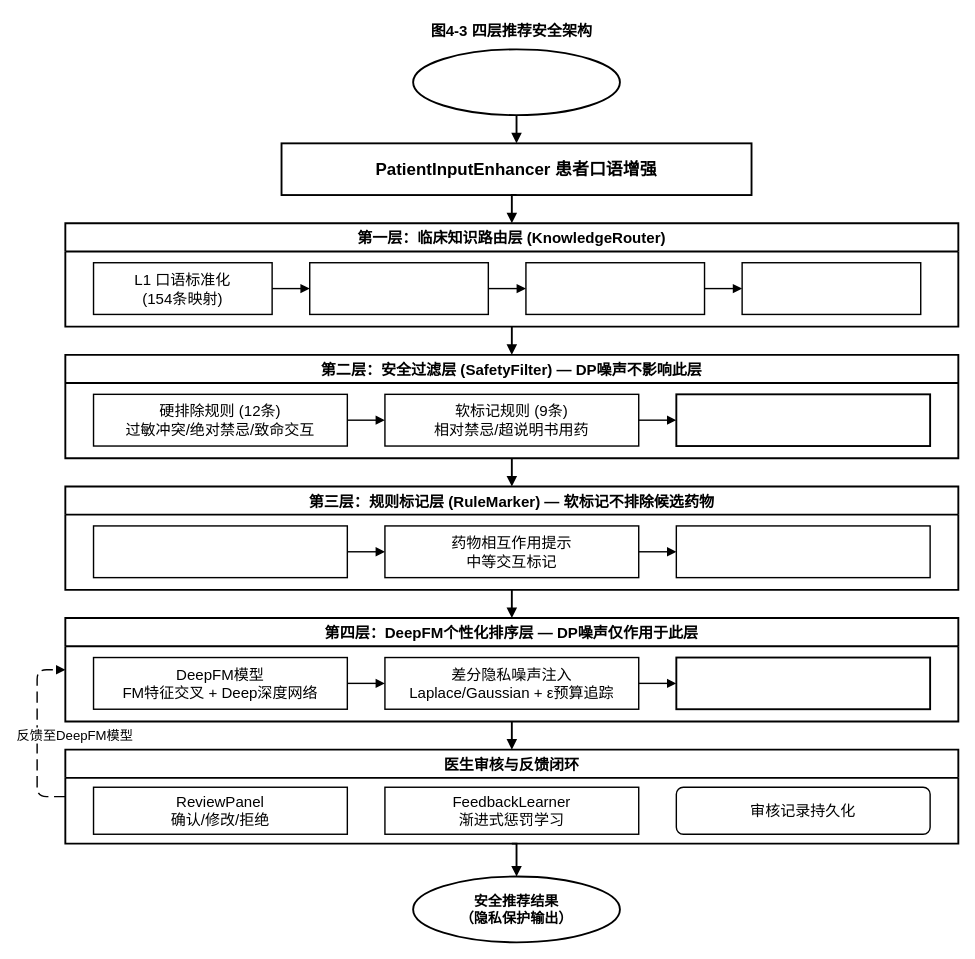
Image size: 975x959. Some labels were removed from this diagram. The centre of each missing label's shape, as x and y in pixels:
L2 疾病归类 (1,495条记录): point (399, 288)
L3 适应症映射 (200条规则): point (615, 288)
L4 药品召回 (候选药物集): point (831, 288)
安全候选药物集 → 进入下一层: point (803, 419)
患者输入 （口语化疾病/症状）: point (516, 82)
最终得分排序 Top-K 安全推荐: point (803, 683)
特殊人群警告 妊娠/哺乳期/老年用药: point (220, 551)
肝肾功能调整标记 添加需审查标签: point (802, 551)
